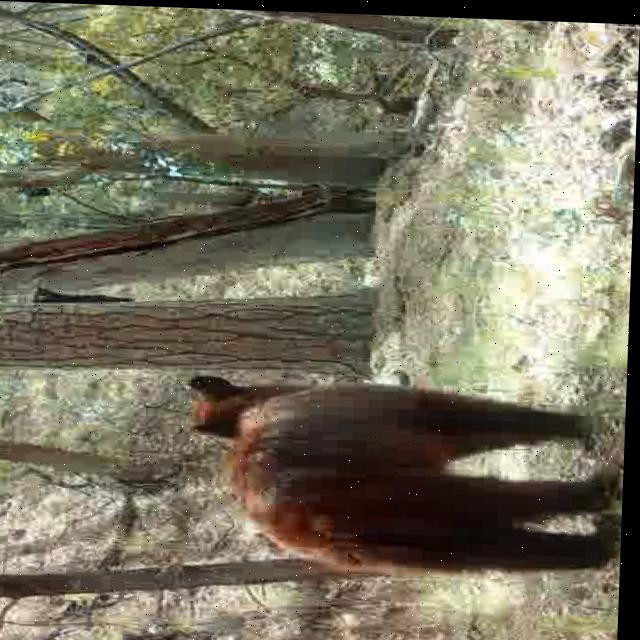bear face: (177, 370, 628, 575), (31, 288, 134, 308)
